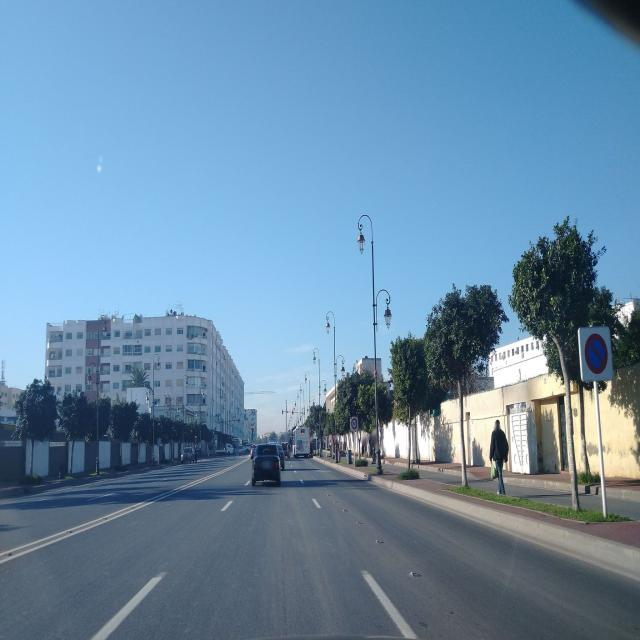forb_stopping: (584, 332, 608, 376)
